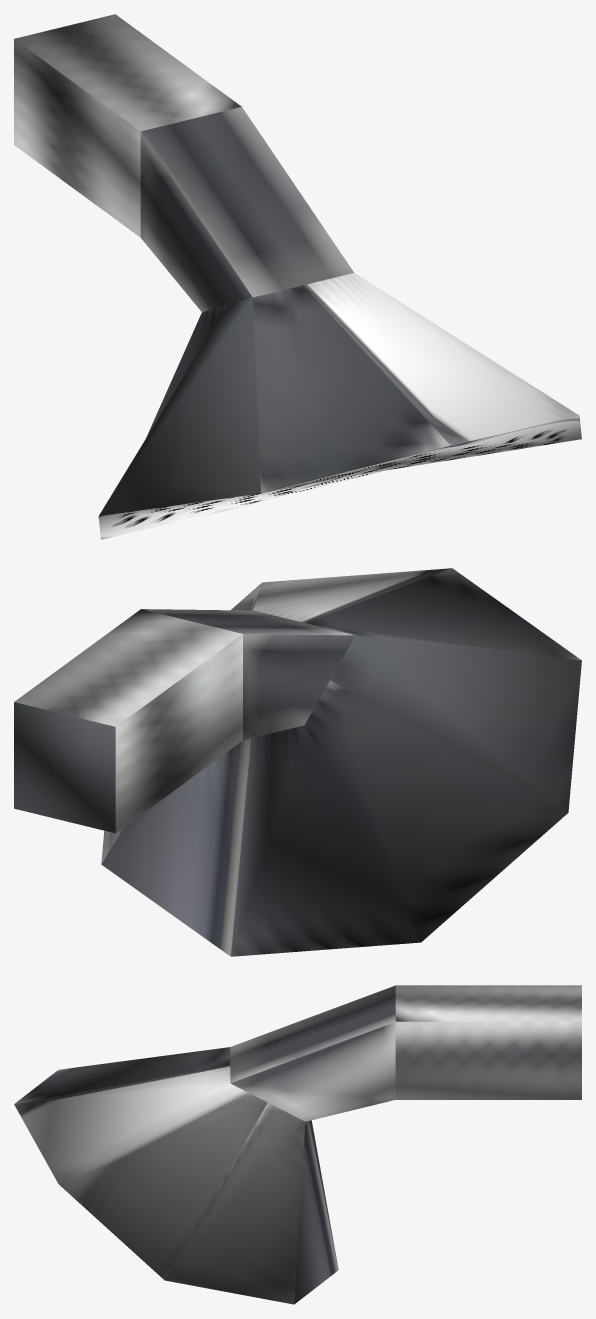
The model's file is Shower.fbx.
3 renders of one model, top to bottom at view 1: azimuth 30°, elevation 25°; view 2: azimuth 150°, elevation 25°; view 3: azimuth 270°, elevation 25°, orthographic. The views are drawn at different scales.
Visible parts, largest first — view 1: Shower; view 2: Shower; view 3: Shower.
Boxes of the visible parts, <box> form: Shower: <box>14,14,581,539</box>; Shower: <box>14,568,581,956</box>; Shower: <box>14,985,581,1304</box>.
Size of the model in its own units: 105 by 78.06 by 151.
